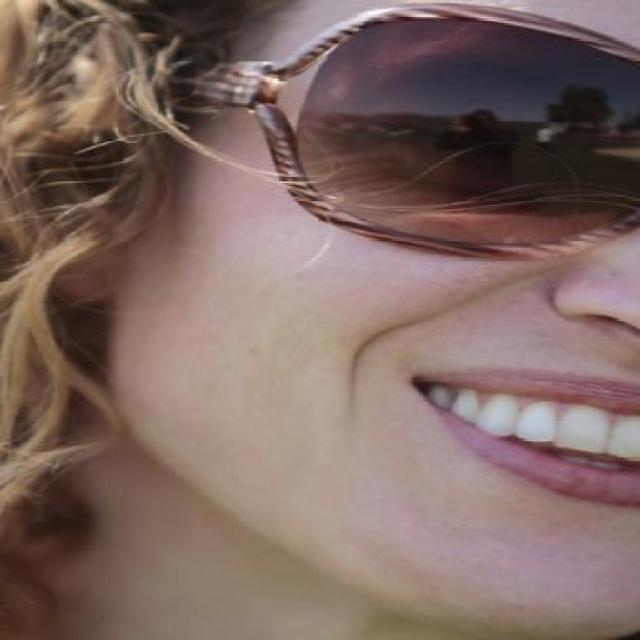glasses: (198, 8, 631, 255)
